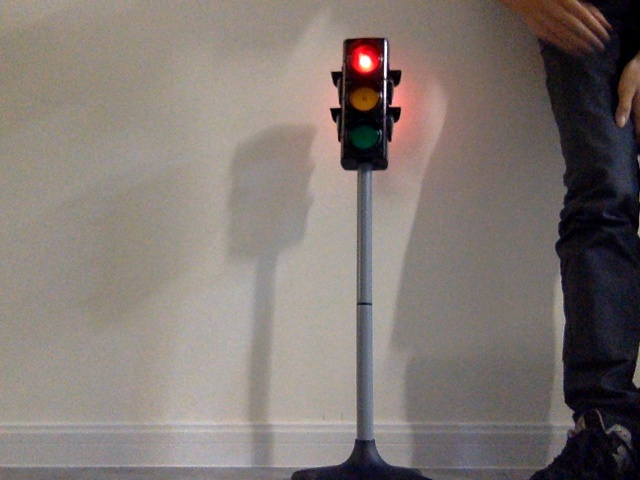red: (342, 42, 383, 156)
